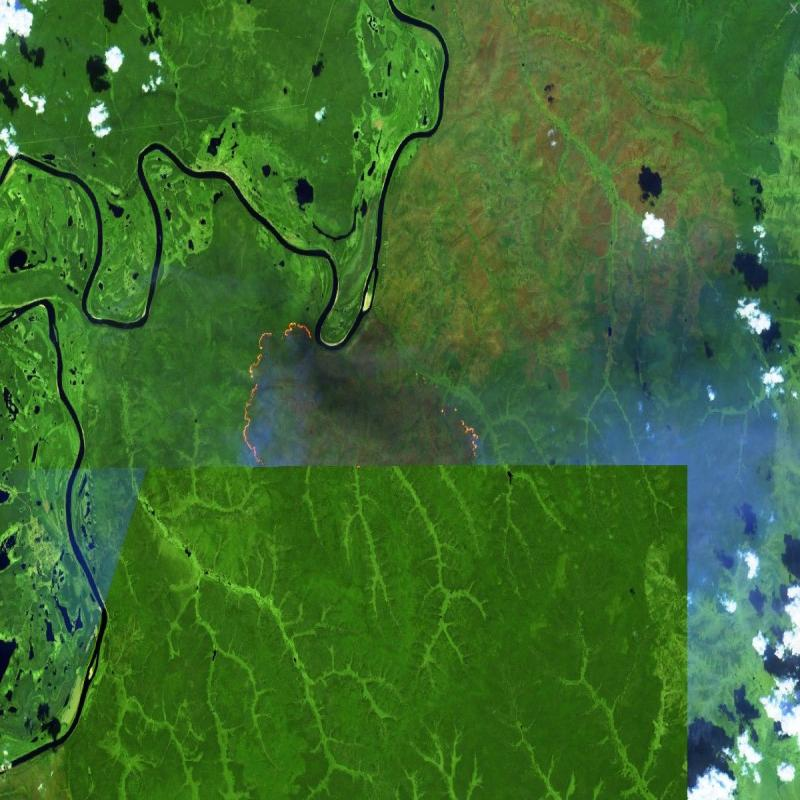fire: (231, 308, 324, 471), (411, 365, 486, 463)
